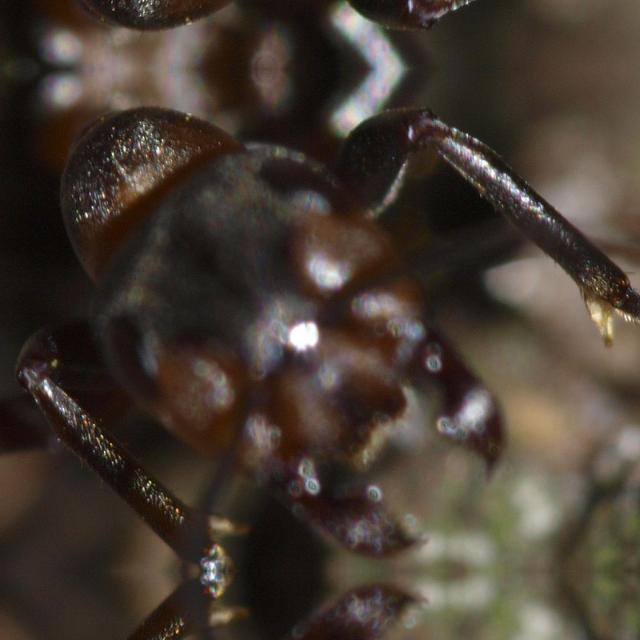Formica: (0, 78, 580, 538)
